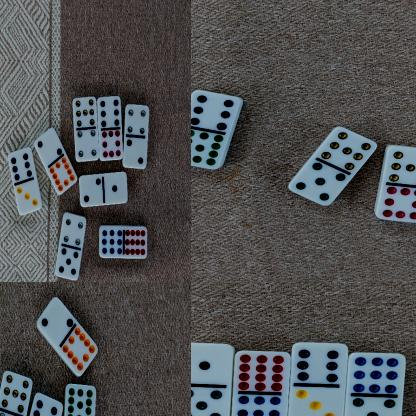pip-1: (191, 342, 234, 385), (104, 171, 128, 204)
pip-10: (62, 325, 98, 376), (49, 154, 78, 194)
pip-11: (191, 128, 225, 168), (63, 383, 97, 416)
pip-12: (234, 349, 291, 393), (124, 225, 148, 258)
pip-2: (37, 295, 74, 341), (35, 126, 64, 164), (124, 136, 148, 168), (79, 174, 103, 206)
pip-3: (288, 383, 347, 416), (14, 179, 44, 213)
pip-4: (62, 212, 87, 247), (124, 103, 150, 136), (76, 127, 100, 161)
pip-5: (288, 162, 347, 206), (343, 394, 403, 416), (191, 385, 231, 416), (56, 246, 80, 281)
pip-6: (291, 342, 349, 385), (191, 89, 241, 130), (8, 146, 34, 181), (31, 391, 63, 416), (98, 96, 122, 127)
pip-7: (320, 127, 378, 171), (2, 370, 34, 412), (385, 144, 416, 186), (73, 96, 98, 128)
pip-8: (376, 185, 416, 222), (100, 127, 124, 162)
pip-9: (349, 352, 406, 394), (231, 392, 287, 416), (100, 224, 124, 259)
